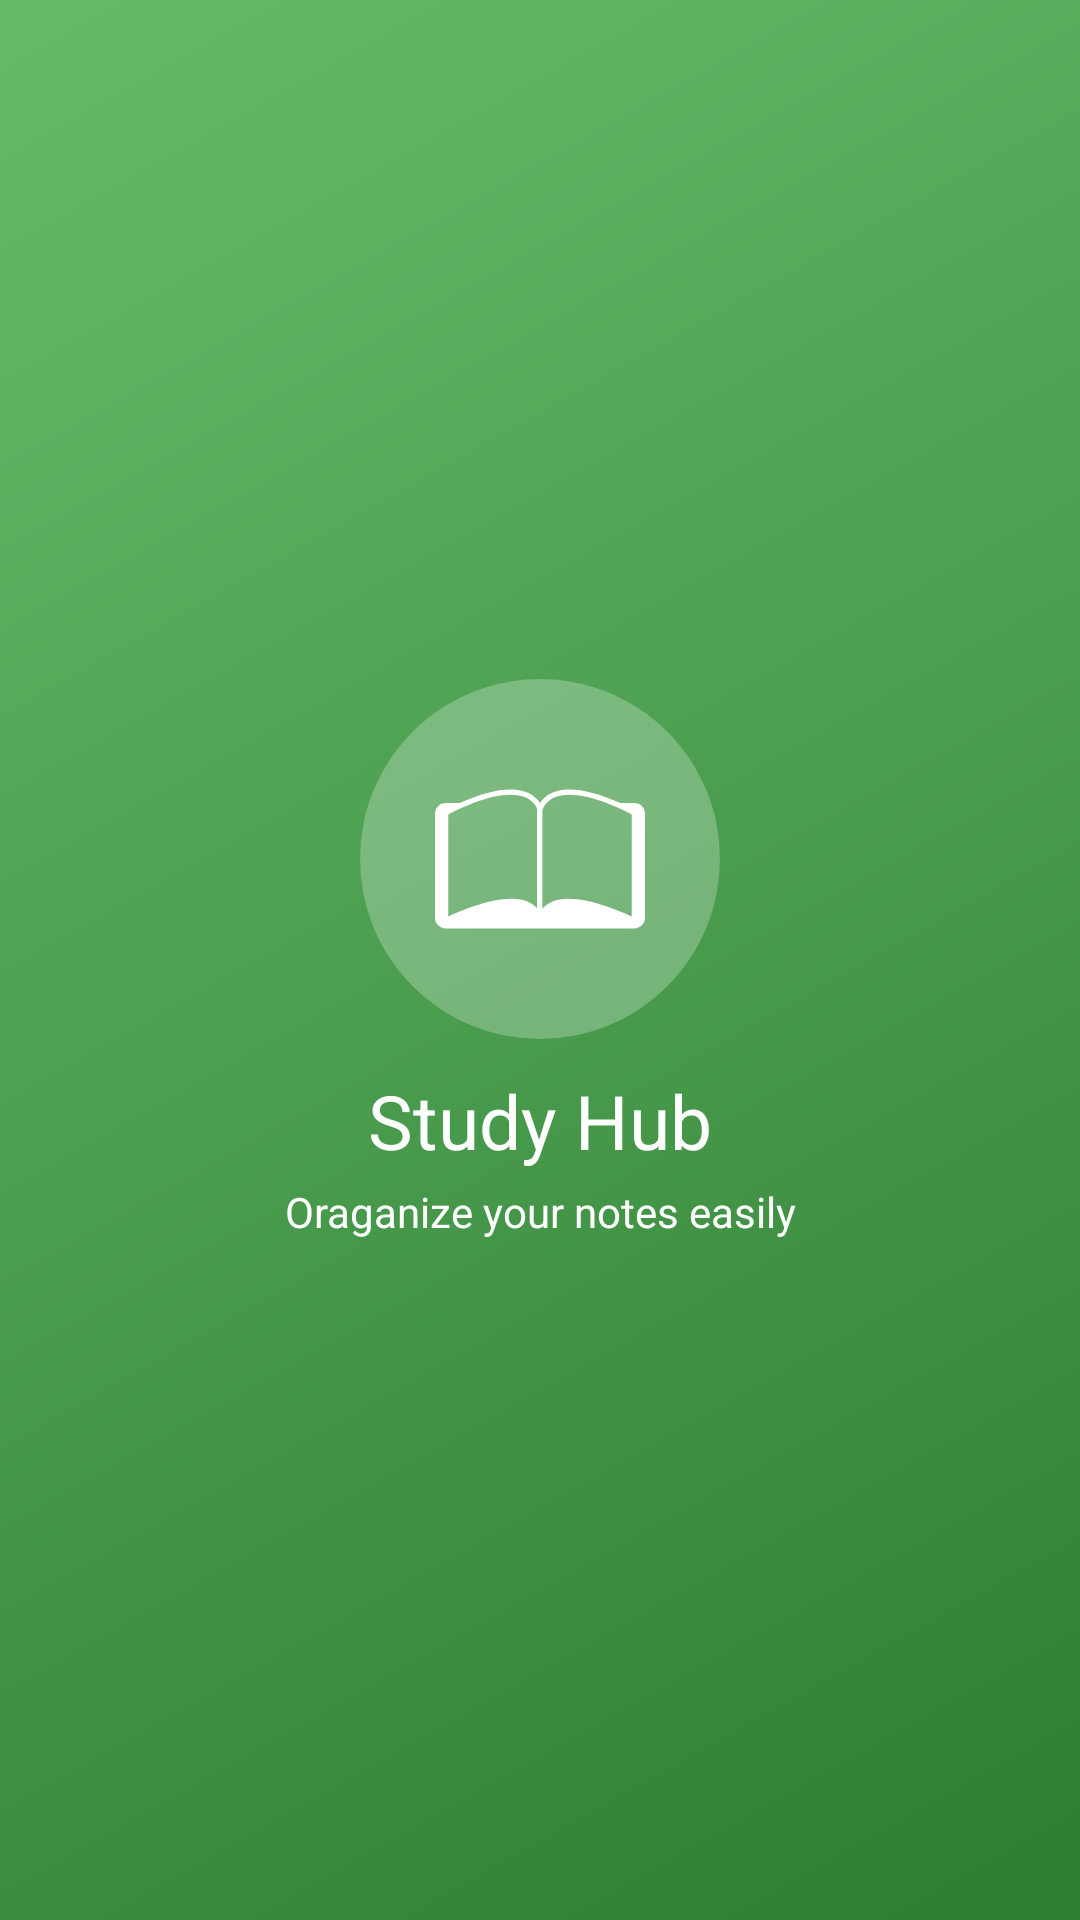

Named icons in this screenshot (1080×1920) and their centers, [x,y]:
book: [540,859]
